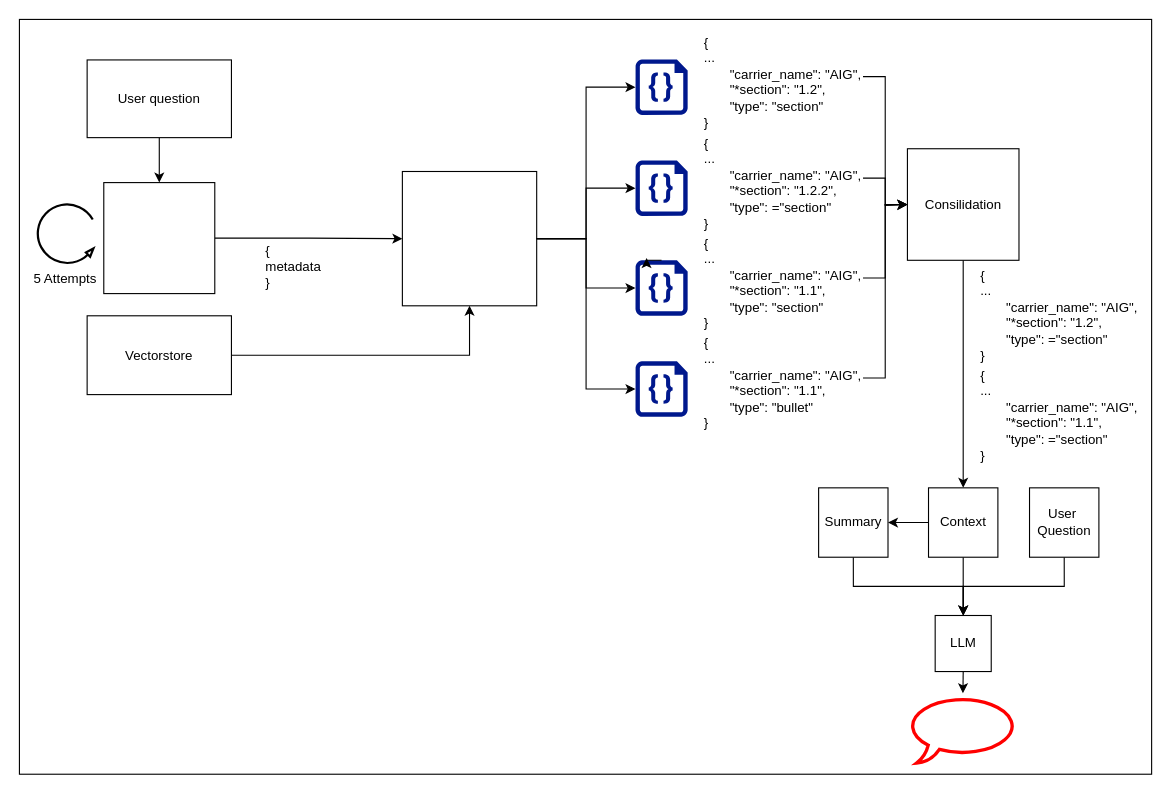
This 1171x794 diagram has some shape labels left out. The box of each missing label's shape, as (x1, y1, x2, y2) in pixels:
Answer: (905, 694, 1020, 764)
Extracting Valid metadata JSON with LLM: (103, 181, 215, 294)
Retrieve simiar documents with cosine similarity and metadat filtering: (401, 170, 537, 306)
